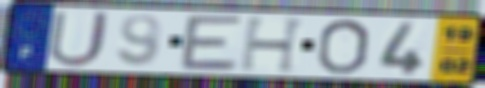4: (377, 20, 428, 78)
9: (115, 14, 165, 68)
E: (178, 13, 246, 73)
H: (237, 16, 311, 75)
O: (314, 18, 374, 76)
U: (46, 9, 114, 69)
